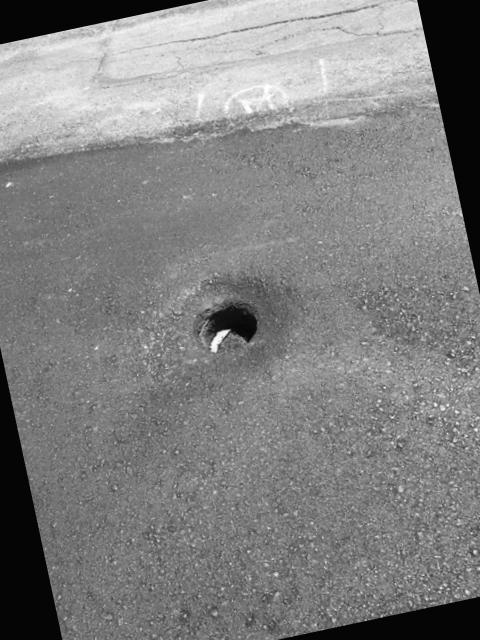Pothole: (179, 275, 300, 359)
